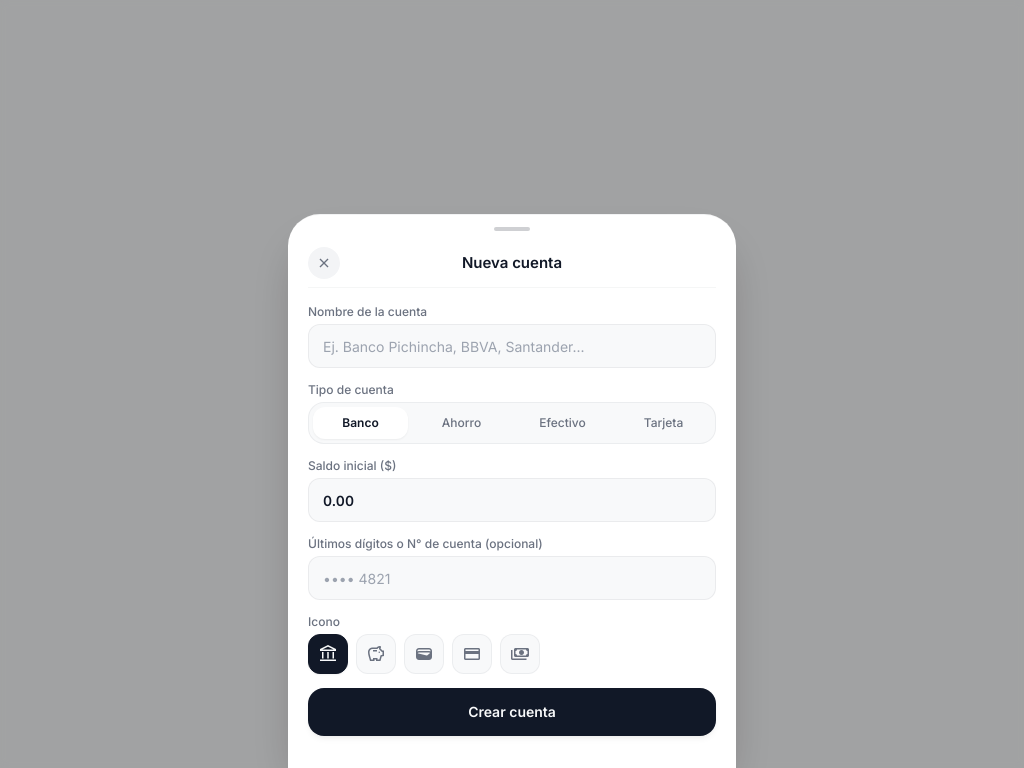
Test: AccountModal › valida que el saldo sea numérico
Type "Banco" into the field with placeholder "Ej. Banco Pichincha, BBVA, Santander...".
click(512, 346); type("Banco")  # box [308,324,716,368]
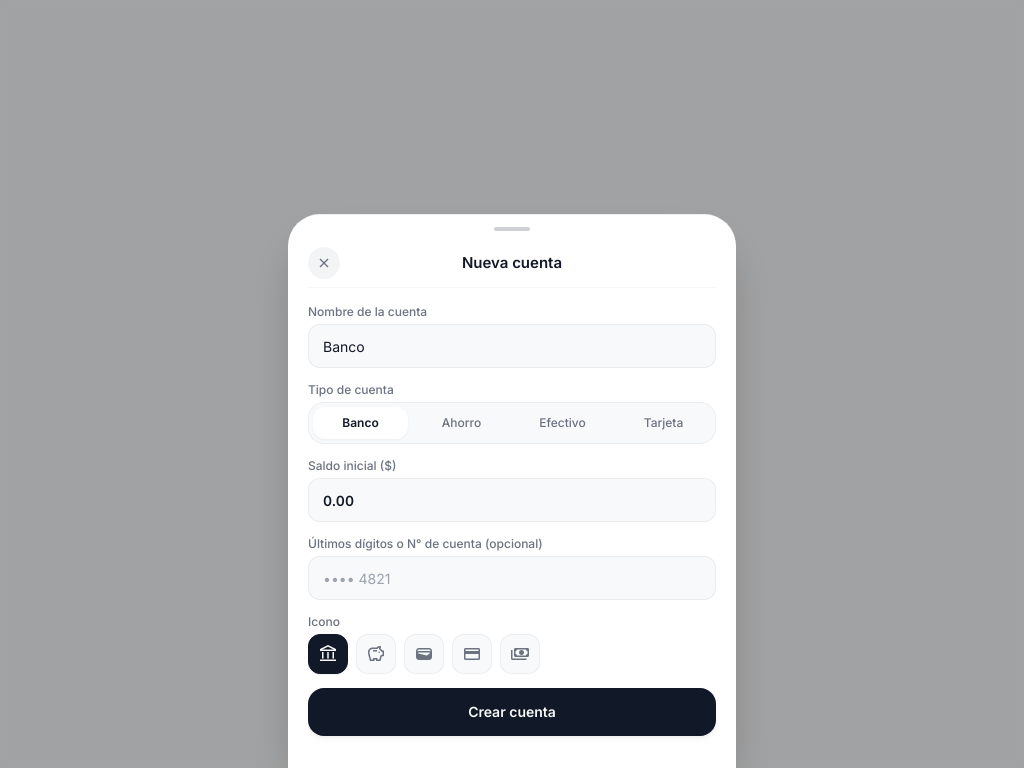
Clear the number field with placeholder "0.00" at (512, 500), box [308,478,716,522]
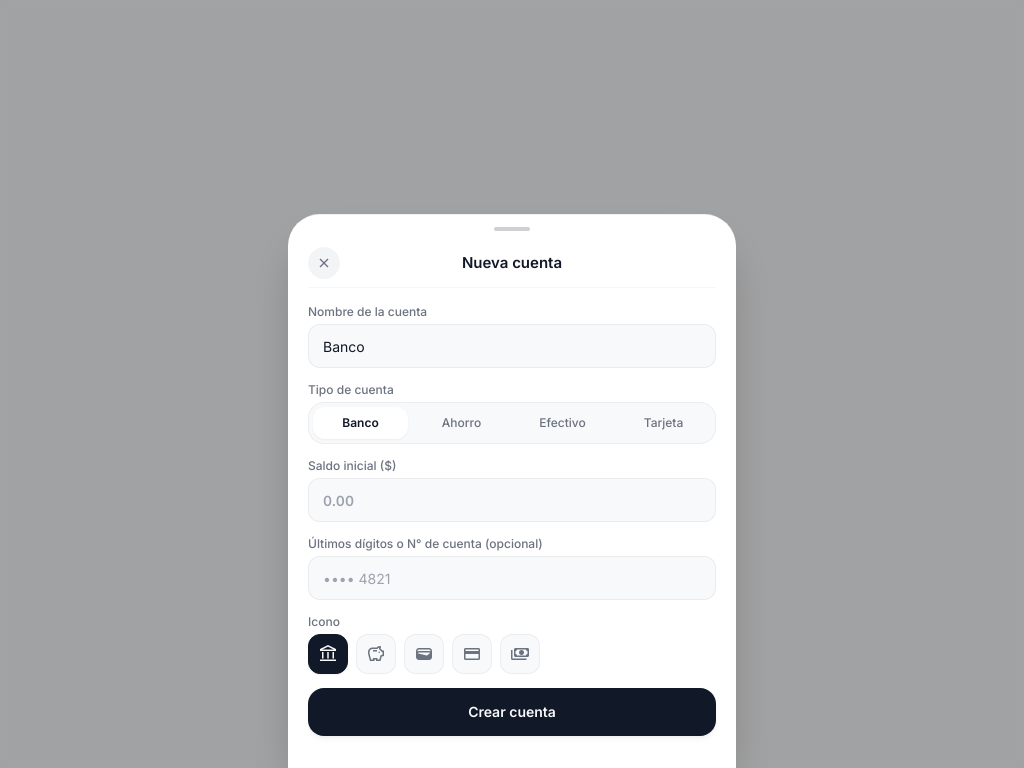
Submit the form named "Crear cuenta", box [308,300,716,736]
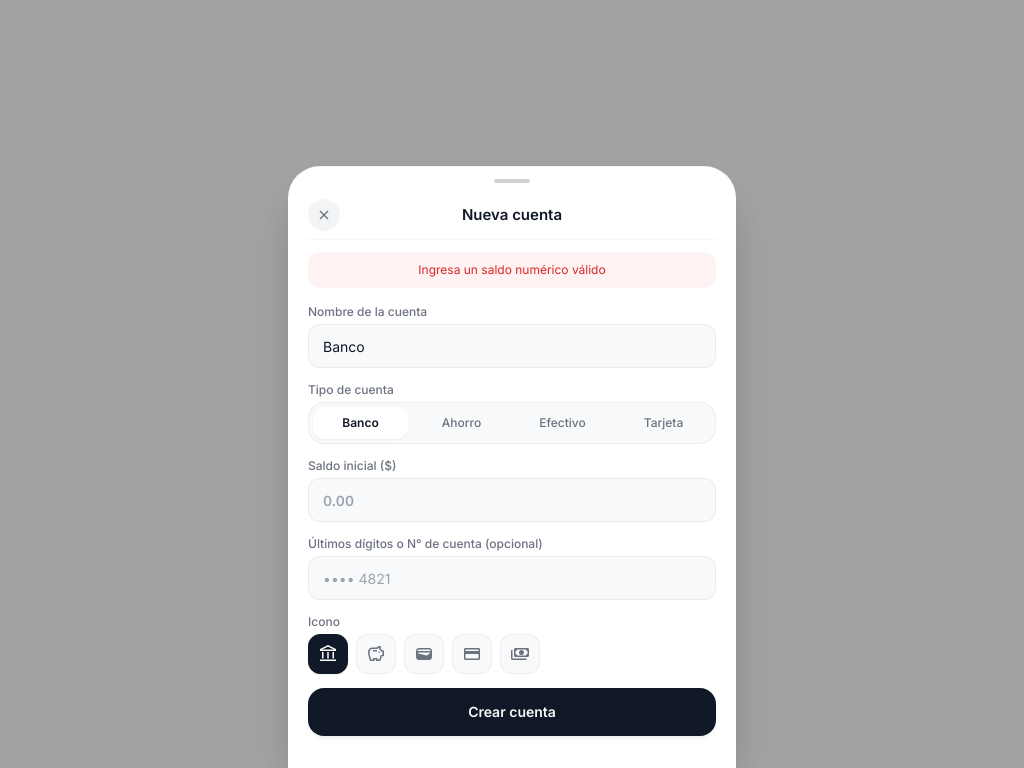
Expected: the text "Ingresa un saldo numérico válido" is shown, [308,252,716,288]
